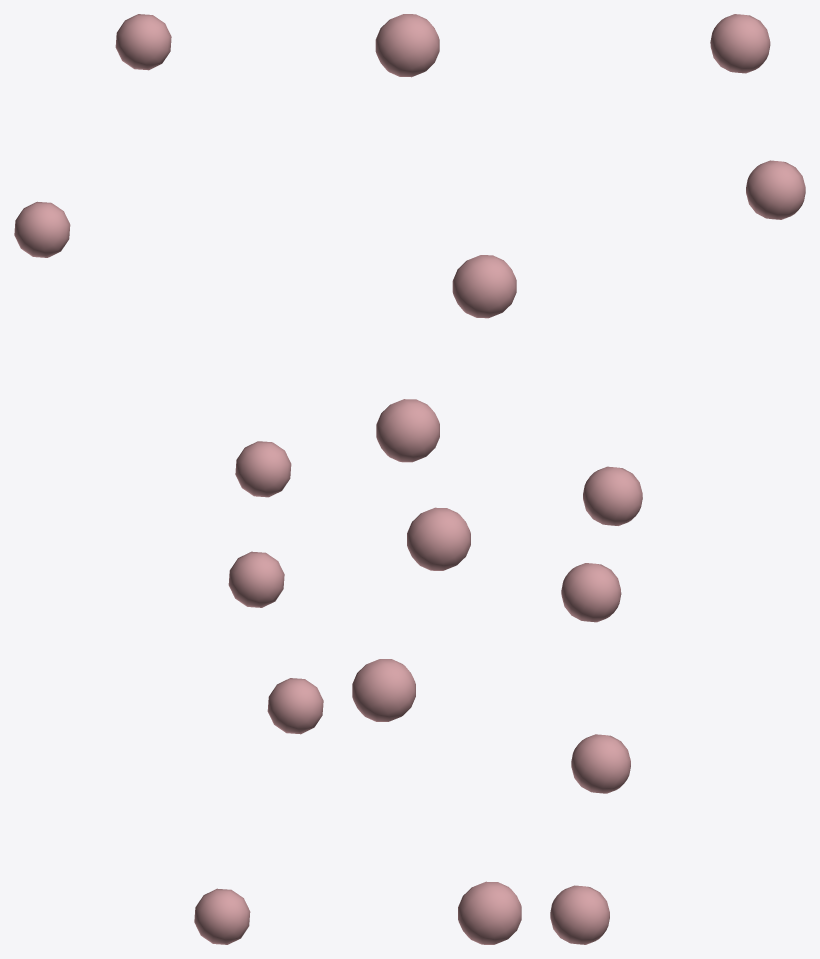
3 renders of one model, left to right at view 1: azimuth 30°, elevation 25°; view 2: azimuth 150°, elevation 25°; view 3: azimuth 270°, elevation 25°, orthographic. The views are drawn at different scales.
Visible parts, largest first — view 1: ZA_07457ac5e7bdec92; view 2: ZA_07457ac5e7bdec92; view 3: ZA_07457ac5e7bdec92.
Part boxes in pixels (left/top/right/bottom): ZA_07457ac5e7bdec92: left=14, top=14, right=323, bottom=944; ZA_07457ac5e7bdec92: left=352, top=14, right=521, bottom=944; ZA_07457ac5e7bdec92: left=550, top=14, right=805, bottom=944.
Bounding box in the file's own units: 0.0115 × 0.0436 × 0.0109.
